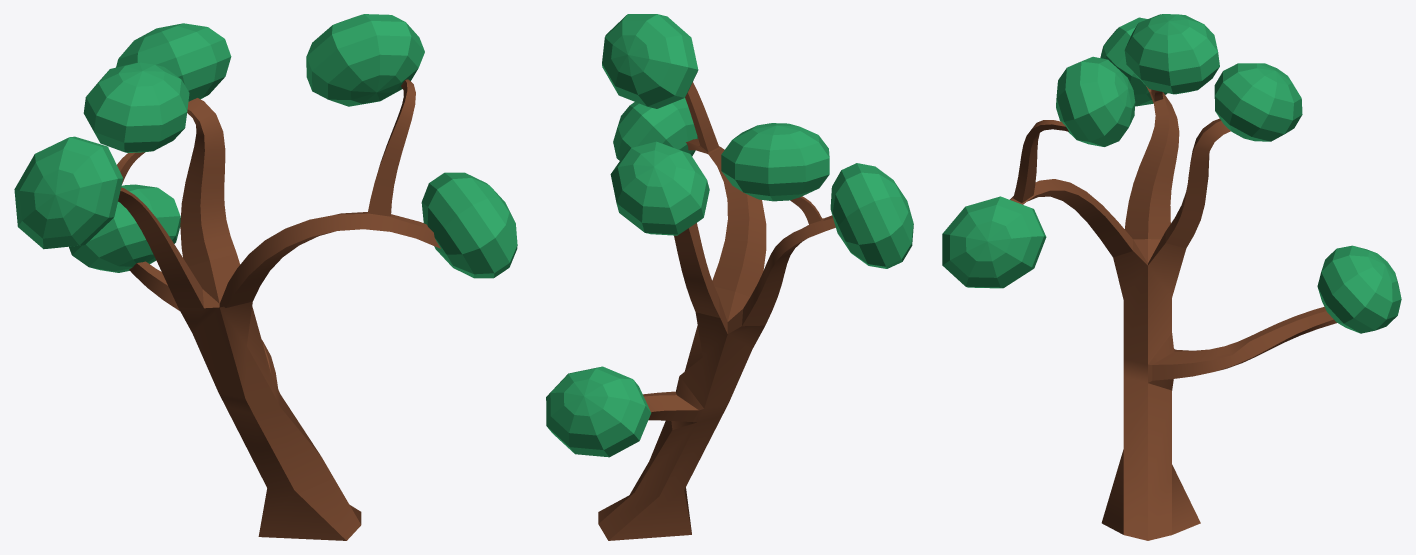
File: TRee 3.fbx
The picture shows the model from 3 angles, left to right: view 1: azimuth 30°, elevation 25°; view 2: azimuth 150°, elevation 25°; view 3: azimuth 270°, elevation 25°; orthographic projection. The views are drawn at different scales.
Parts seen in each view (by area): view 1: TRee_one, Leaves5, Leaves2, Leaves3, Leaves6, Leaves4, Leaves1; view 2: TRee_one, Leaves1, Leaves2, Leaves4, Leaves6, Leaves5, Leaves3; view 3: TRee_one, Leaves3, Leaves6, Leaves1, Leaves2, Leaves4, Leaves5.
Boxes of the visible parts, box(x1,y1,x2,y2) form: TRee_one: box(117, 79, 440, 540); Leaves5: box(14, 136, 123, 249); Leaves2: box(306, 14, 424, 106); Leaves3: box(421, 172, 517, 278); Leaves6: box(83, 62, 189, 152); Leaves4: box(116, 23, 231, 101); Leaves1: box(69, 184, 180, 272); TRee_one: box(598, 82, 835, 540); Leaves1: box(546, 366, 651, 457); Leaves2: box(602, 14, 698, 108); Leaves4: box(610, 141, 709, 235); Leaves6: box(721, 123, 829, 201); Leaves5: box(830, 163, 913, 268); Leaves3: box(613, 98, 697, 160); TRee_one: box(1010, 86, 1336, 540); Leaves3: box(942, 196, 1046, 288); Leaves6: box(1124, 14, 1219, 94); Leaves1: box(1317, 245, 1401, 333); Leaves2: box(1056, 56, 1135, 146); Leaves4: box(1214, 63, 1302, 141); Leaves5: box(1100, 17, 1167, 106).
Size of the model in its own units: 48.24 by 60.33 by 53.74.
